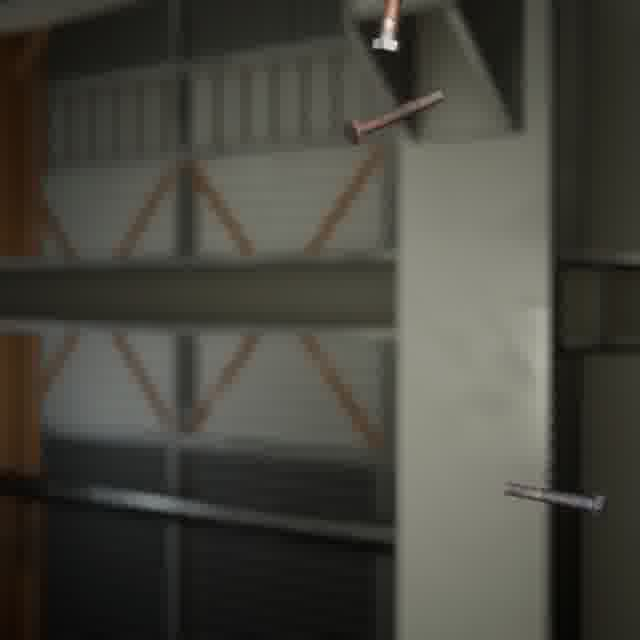bolt: (339, 85, 447, 149), (499, 477, 611, 524), (367, 0, 406, 59)
